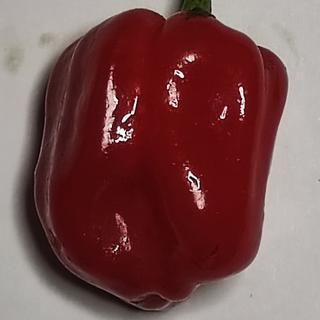Grade-A: (23, 6, 292, 310)
